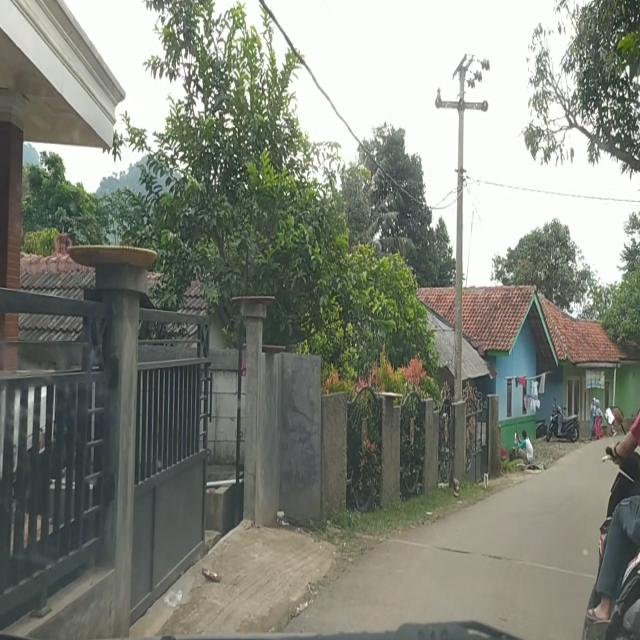Sewer Cover: (434, 543, 520, 563)
